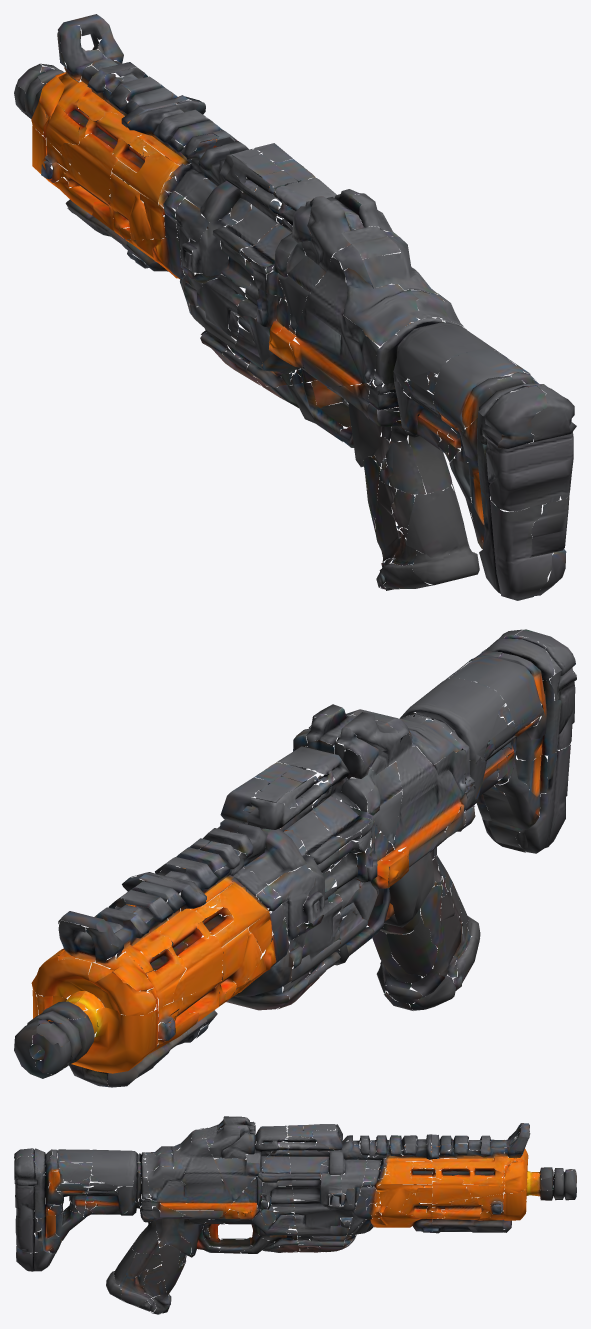
The model's file is nanorifle.glb.
The picture shows the model from 3 angles, top to bottom: view 1: azimuth 30°, elevation 25°; view 2: azimuth 150°, elevation 25°; view 3: azimuth 270°, elevation 25°; orthographic projection. The views are drawn at different scales.
Visible parts, largest first — view 1: gun; view 2: gun; view 3: gun.
Part boxes in pixels (bbox=[...]): gun: bbox=[14, 14, 576, 600]; gun: bbox=[14, 629, 576, 1087]; gun: bbox=[14, 1116, 576, 1314].
Bounding box in the file's own units: 0.1122 × 0.2772 × 0.751.
1 material, 1 textured.
